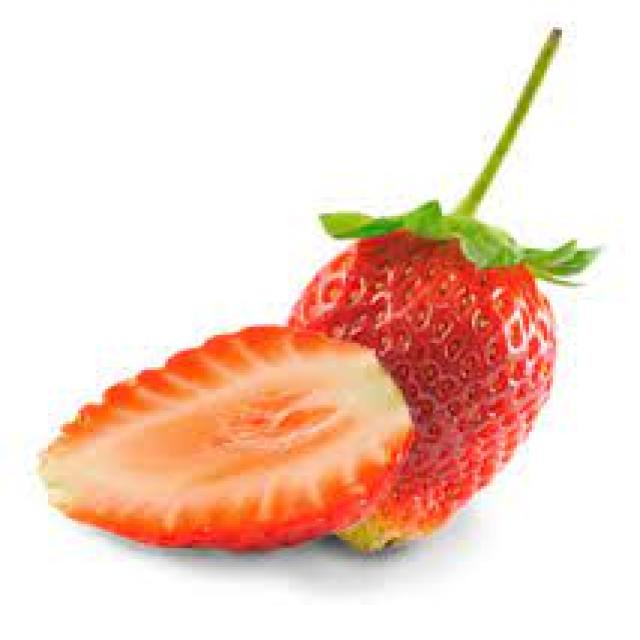strawberry: (282, 177, 566, 571), (48, 341, 406, 550)
